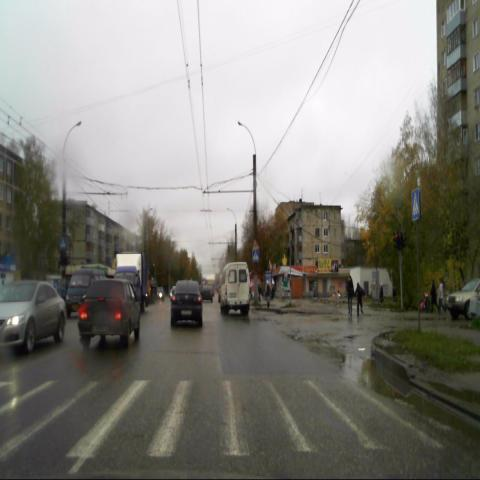5_19_1: (410, 188, 421, 222)
